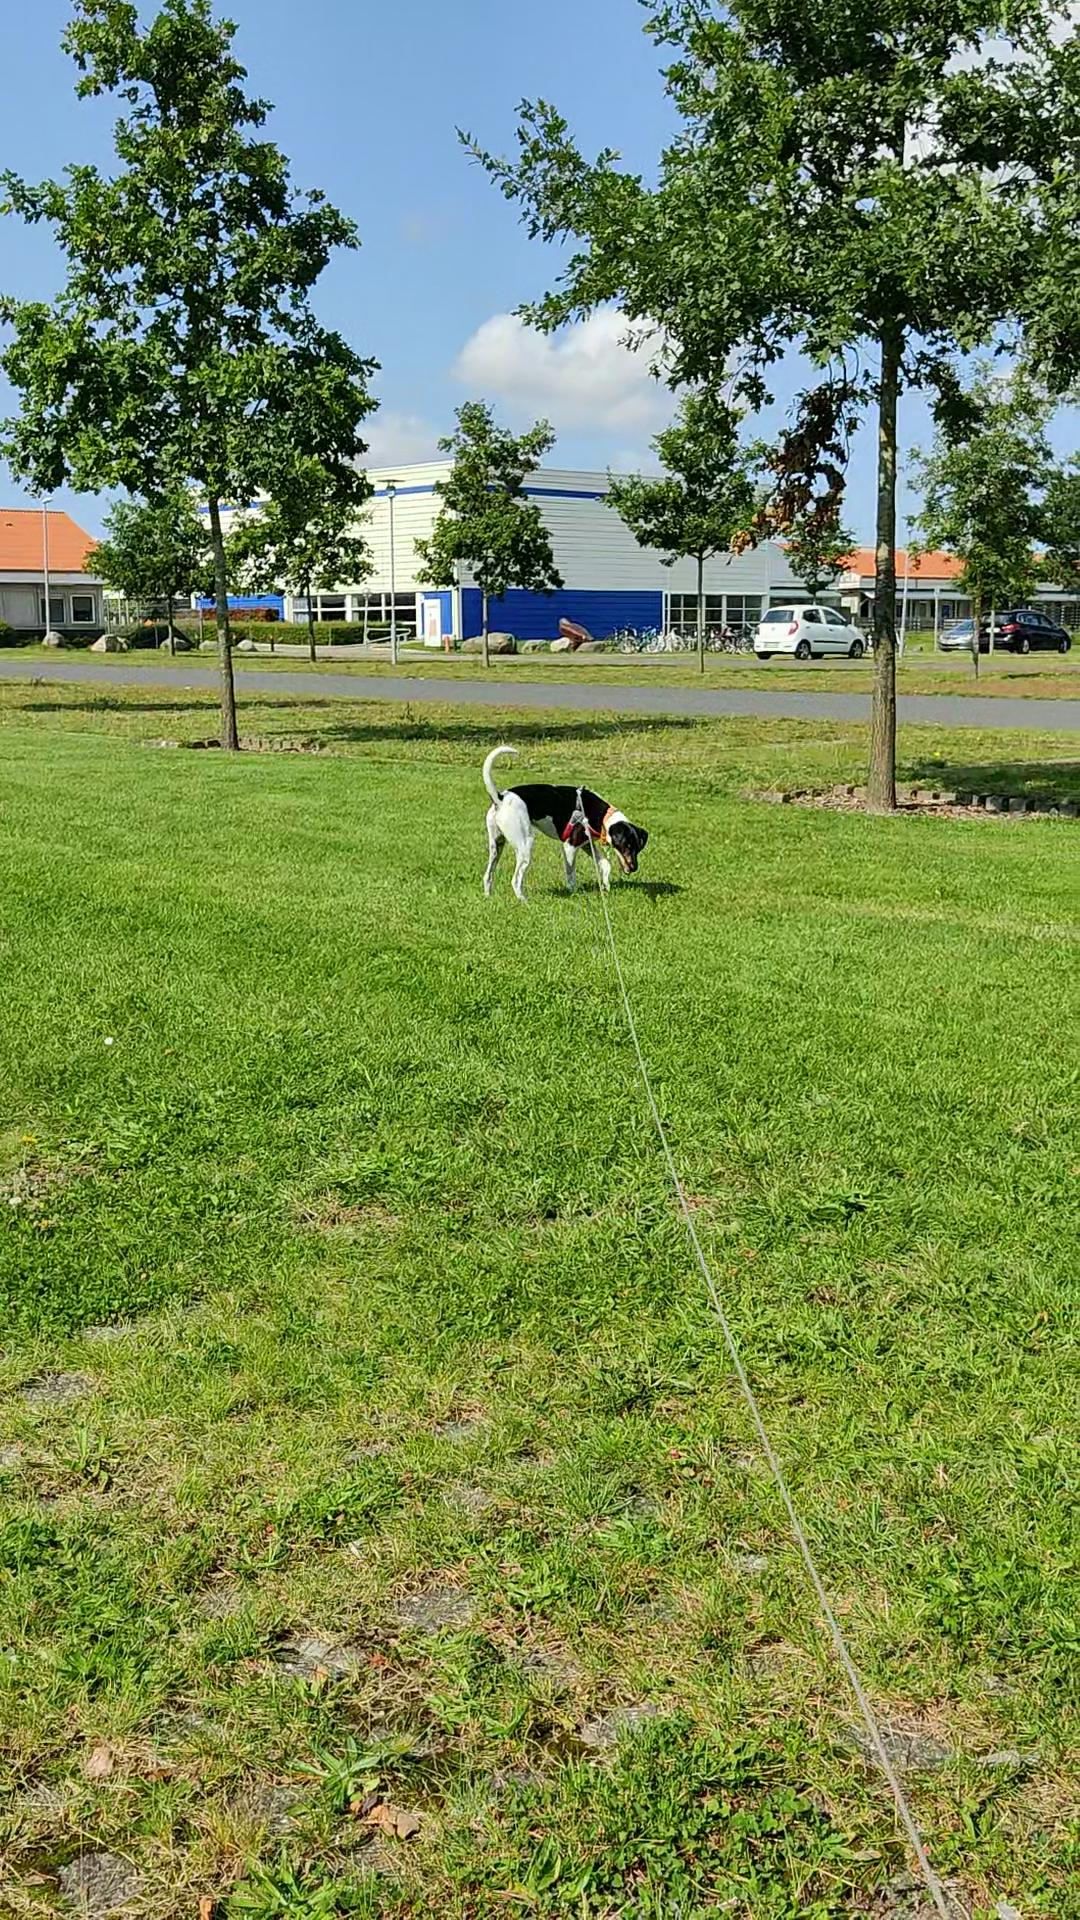Dog: (477, 742, 651, 898)
